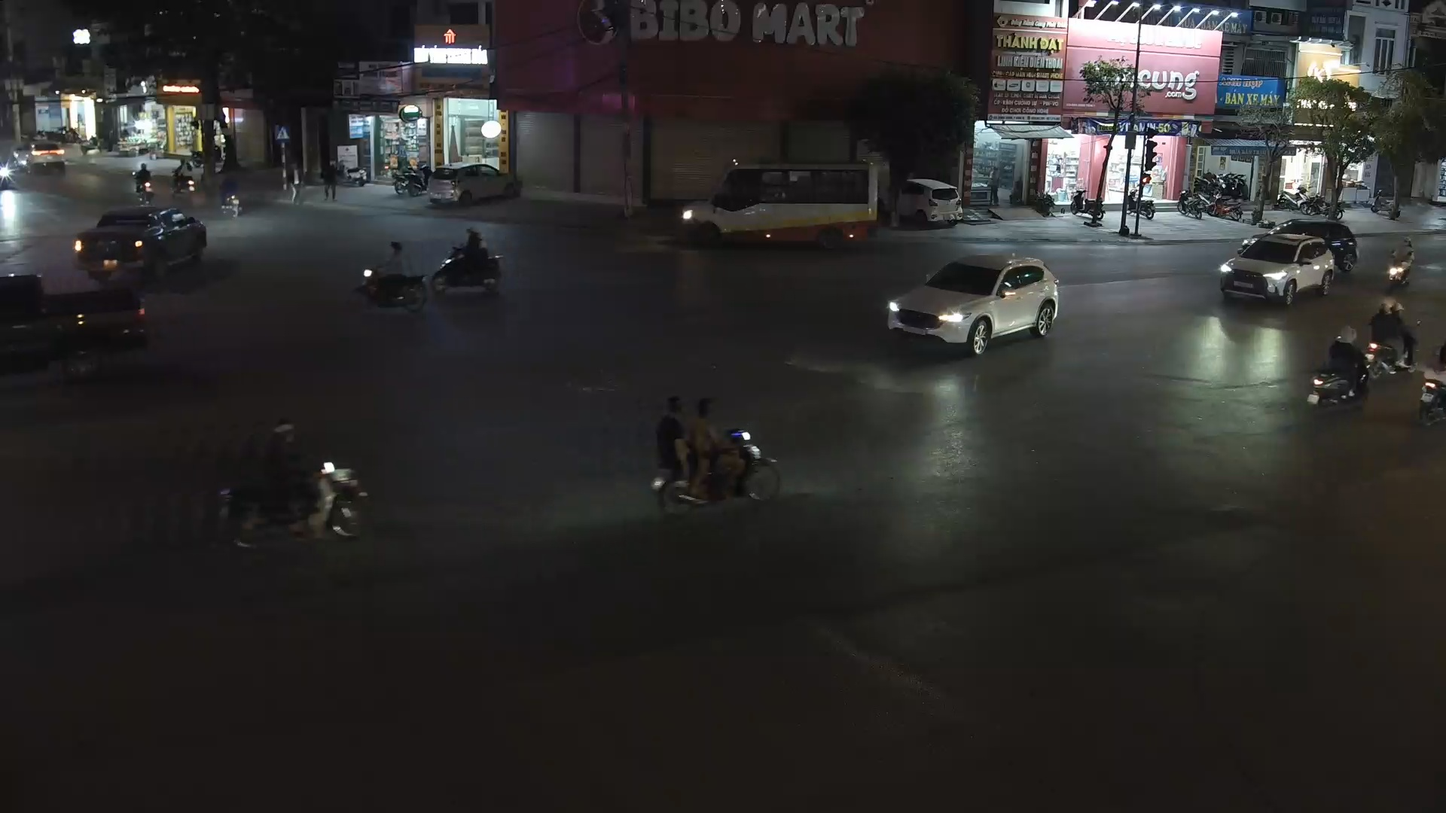car: (884, 252, 1062, 356), (0, 268, 149, 380), (73, 204, 209, 285), (1217, 226, 1337, 306)
motorbike: (212, 414, 369, 549), (649, 393, 783, 515), (1305, 327, 1373, 415), (428, 224, 506, 300), (354, 236, 430, 313), (1363, 296, 1423, 382), (1416, 343, 1445, 428), (1386, 239, 1415, 291)
